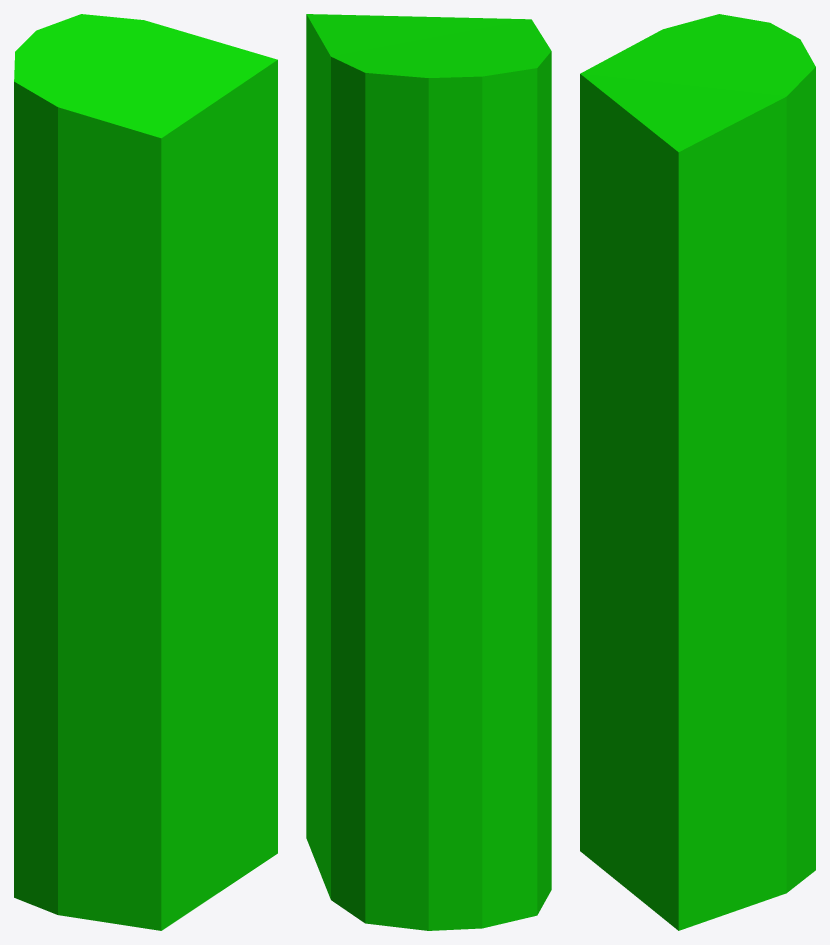
3 views of the same model, side by side, from view 1: azimuth 30°, elevation 25°; view 2: azimuth 150°, elevation 25°; view 3: azimuth 270°, elevation 25° (orthographic). The views are drawn at different scales.
Visible parts, largest first — view 1: Plane.014; view 2: Plane.014; view 3: Plane.014.
Boxes of the visible parts, x1,y1,x2,y2 form: Plane.014: (14,14,277,930); Plane.014: (306,14,551,930); Plane.014: (580,14,815,930).
Size of the model in its own units: 373 by 1203 by 319.
